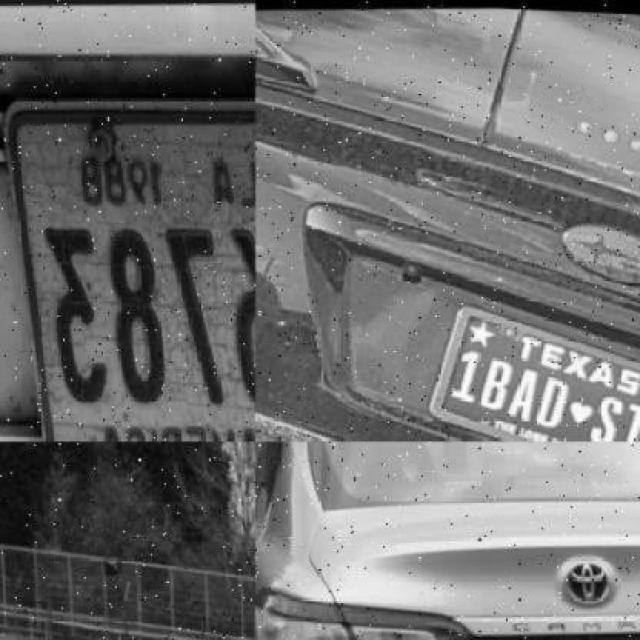licenseplate: (27, 191, 256, 442)
